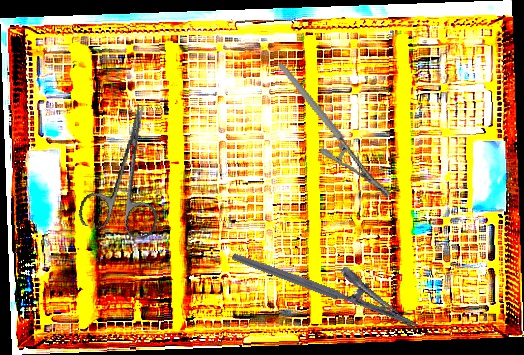Iris Scissors: (76, 96, 182, 242)
Needle Holder: (231, 227, 429, 332), (277, 42, 394, 219)
